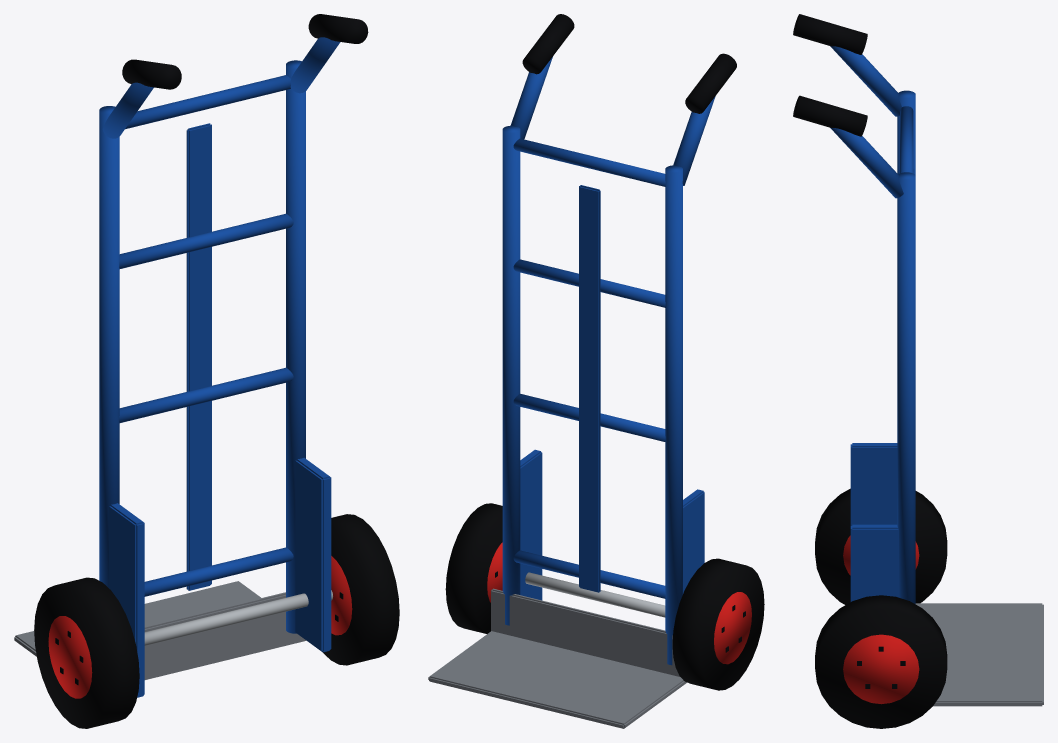
Rendered from sack_truck.glb.
3 renders of one model, left to right at view 1: azimuth 30°, elevation 25°; view 2: azimuth 150°, elevation 25°; view 3: azimuth 270°, elevation 25°, orthographic. The views are drawn at different scales.
Visible parts, largest first — view 1: PC_Blue, PC_Blue.001, Van_Tire.001, PC_Steel, Van_Tire, PC_Black, PC_Red.001, PC_Galv, PC_Red; view 2: PC_Blue, PC_Steel, PC_Blue.001, Van_Tire.001, Van_Tire, PC_Black, PC_Red.001, PC_Galv, PC_Red; view 3: PC_Blue, PC_Steel, Van_Tire, PC_Blue.001, Van_Tire.001, PC_Red, PC_Black.
Part boxes in pixels (bbox=[...]): PC_Blue: bbox=[99, 37, 340, 633]; PC_Blue.001: bbox=[109, 123, 331, 697]; Van_Tire.001: bbox=[34, 577, 139, 728]; PC_Steel: bbox=[14, 581, 306, 679]; Van_Tire: bbox=[323, 514, 399, 665]; PC_Black: bbox=[122, 14, 368, 89]; PC_Red.001: bbox=[48, 616, 92, 698]; PC_Galv: bbox=[144, 590, 332, 645]; PC_Red: bbox=[331, 556, 352, 635]; PC_Blue: bbox=[502, 57, 715, 665]; PC_Steel: bbox=[428, 588, 686, 728]; PC_Blue.001: bbox=[520, 185, 704, 600]; Van_Tire.001: bbox=[672, 558, 764, 690]; Van_Tire: bbox=[445, 503, 502, 633]; PC_Black: bbox=[522, 14, 736, 113]; PC_Red.001: bbox=[714, 592, 751, 664]; PC_Galv: bbox=[525, 572, 665, 617]; PC_Red: bbox=[487, 542, 502, 602]; PC_Blue: bbox=[830, 46, 915, 604]; PC_Steel: bbox=[915, 603, 1043, 706]; Van_Tire: bbox=[815, 595, 947, 728]; PC_Blue.001: bbox=[850, 168, 914, 601]; Van_Tire.001: bbox=[815, 488, 947, 604]; PC_Red: bbox=[843, 634, 919, 704]; PC_Black: bbox=[793, 14, 867, 136].
Size of the model in its own units: 0.603 by 1.32 by 0.4934.
